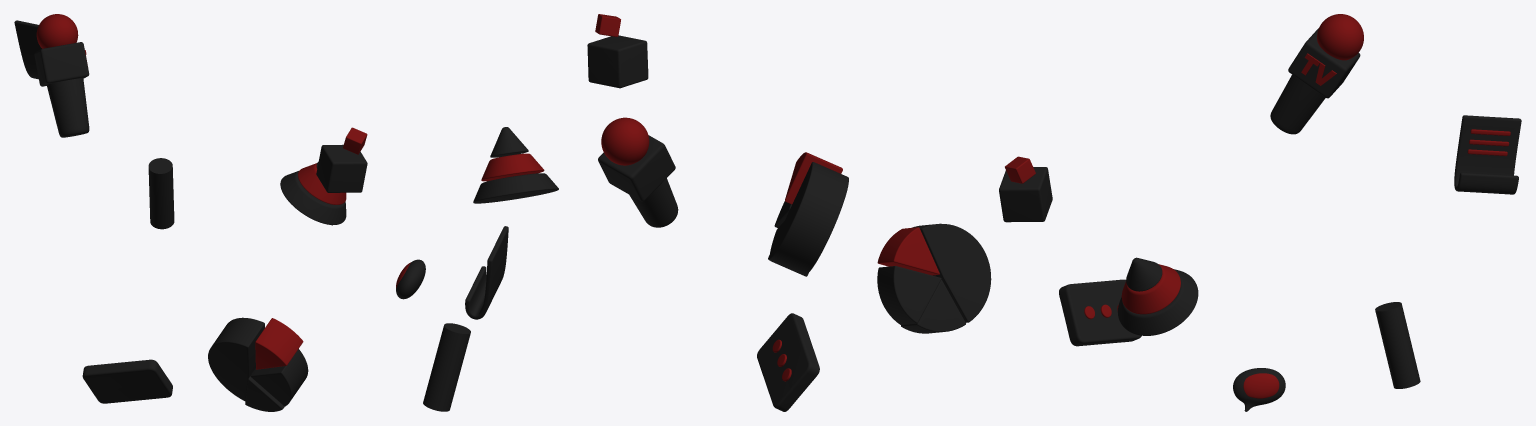
File: ALL.glb
3 renders of one model, left to right at view 1: azimuth 30°, elevation 25°; view 2: azimuth 150°, elevation 25°; view 3: azimuth 270°, elevation 25°, orthographic. The views are drawn at different scales.
Parts seen in each view (by area): view 1: Object008, Object004, Object003, Object005, Object006, Object001, Object002; view 2: Object008, Object004, Object003, Object006, Object005, Object001, Object002, Object007; view 3: Object008, Object004, Object006, Object002, Object003, Object005, Object001, Object007.
Part boxes in pixels (left/top/right/bottom): Object008: left=208, top=317, right=308, bottom=411; Object004: left=34, top=14, right=89, bottom=137; Object003: left=82, top=359, right=172, bottom=403; Object005: left=316, top=127, right=367, bottom=192; Object006: left=280, top=162, right=346, bottom=224; Object001: left=148, top=158, right=174, bottom=229; Object002: left=14, top=20, right=41, bottom=79; Object008: left=768, top=152, right=848, bottom=276; Object004: left=598, top=117, right=678, bottom=227; Object003: left=757, top=313, right=819, bottom=411; Object006: left=473, top=127, right=558, bottom=203; Object005: left=587, top=14, right=648, bottom=88; Object001: left=423, top=323, right=470, bottom=411; Object002: left=465, top=226, right=508, bottom=319; Object007: left=396, top=259, right=425, bottom=299; Object008: left=877, top=223, right=991, bottom=333; Object004: left=1270, top=14, right=1363, bottom=134; Object006: left=1117, top=257, right=1198, bottom=335; Object002: left=1454, top=115, right=1521, bottom=194; Object003: left=1059, top=279, right=1141, bottom=346; Object005: left=999, top=156, right=1052, bottom=222; Object001: left=1375, top=302, right=1420, bottom=388; Object007: left=1233, top=368, right=1285, bottom=411.
Size of the model in its own units: 0.2173 by 0.2105 by 0.3514.
